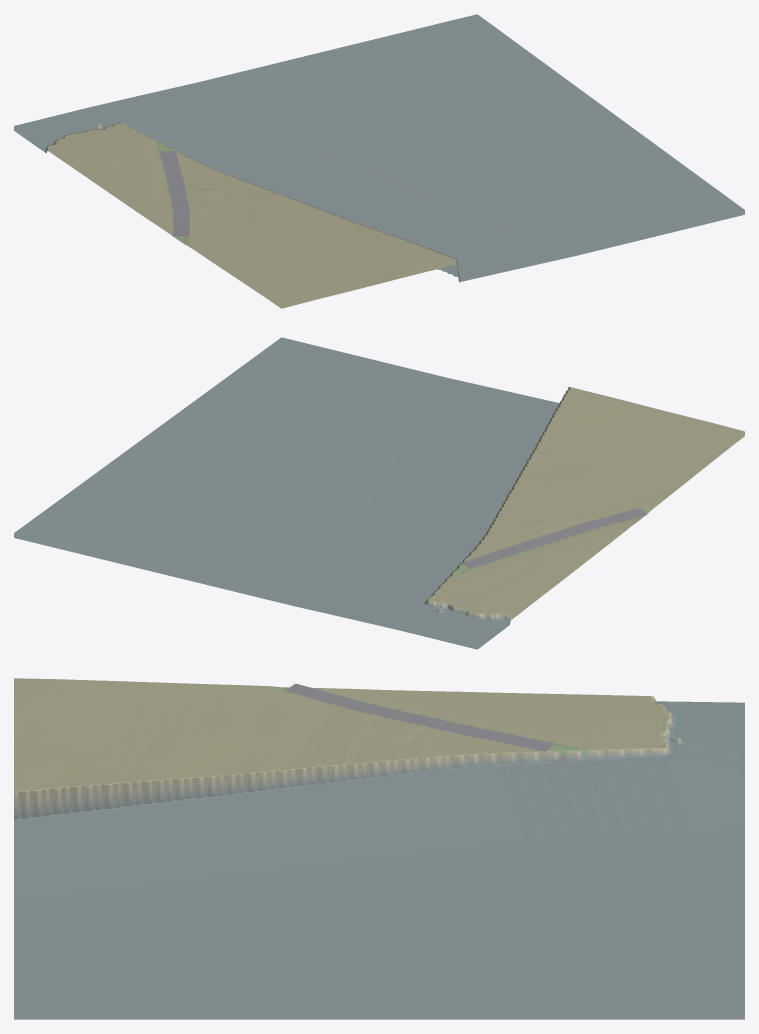
3 renders of one model, top to bottom at view 1: azimuth 30°, elevation 25°; view 2: azimuth 150°, elevation 25°; view 3: azimuth 270°, elevation 25°, orthographic. The views are drawn at different scales.
Parts seen in each view (by area): view 1: prim0, prim1; view 2: prim0, prim1; view 3: prim0, prim1.
Part boxes in pixels (x1=…): prim0: x1=14, y1=14, x2=744, y2=308; prim1: x1=157, y1=146, x2=189, y2=236; prim0: x1=14, y1=337, x2=744, y2=649; prim1: x1=451, y1=508, x2=647, y2=572; prim0: x1=14, y1=678, x2=744, y2=1019; prim1: x1=284, y1=683, x2=572, y2=763.
Size of the model in its own units: 518 by 26.92 by 512.
